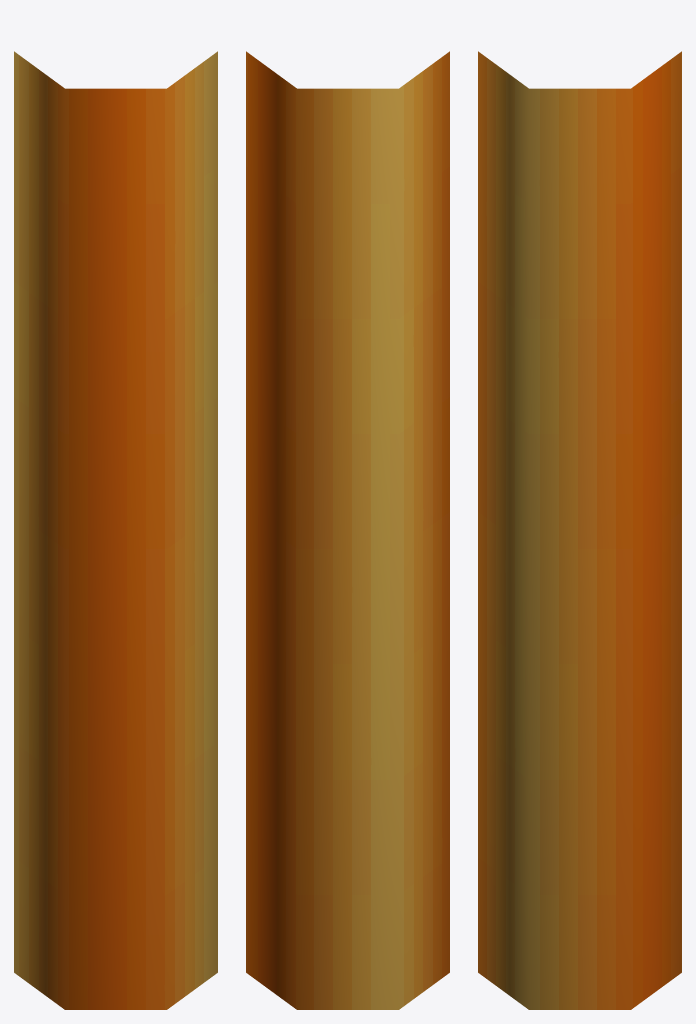
Rendered from glf_pin1__glf_pin1b.glb.
3 renders of one model, left to right at view 1: azimuth 30°, elevation 25°; view 2: azimuth 150°, elevation 25°; view 3: azimuth 270°, elevation 25°, orthographic.
Visible parts, largest first — view 1: polygon0; view 2: polygon0; view 3: polygon0.
Part boxes in pixels (left/top/right/bottom): polygon0: left=14, top=51, right=217, bottom=1009; polygon0: left=246, top=51, right=449, bottom=1009; polygon0: left=478, top=51, right=681, bottom=1009.
Size of the model in its own units: 0.6063 by 3.49 by 0.7.
Materials: 1 (1 with a texture image).
